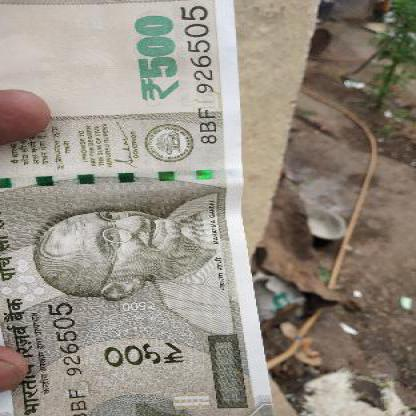New500Front: (1, 0, 280, 416)
